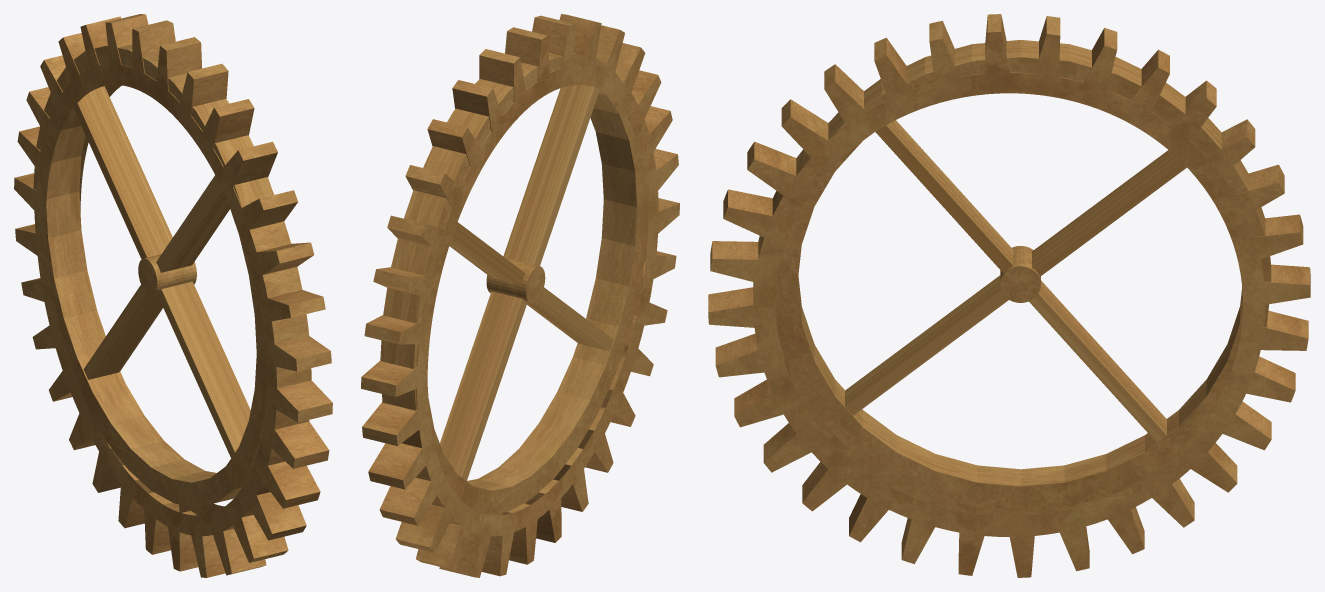
File: MercureRoueSecondaire.fbx
The picture shows the model from 3 angles, left to right: view 1: azimuth 30°, elevation 25°; view 2: azimuth 150°, elevation 25°; view 3: azimuth 270°, elevation 25°; orthographic projection. The views are drawn at different scales.
Parts seen in each view (by area): view 1: GearPetite, ContourRoueSeondaire, CentreRoueSecondaire; view 2: GearPetite, ContourRoueSeondaire, CentreRoueSecondaire; view 3: GearPetite, ContourRoueSeondaire, CentreRoueSecondaire.
Boxes of the visible parts, x1,y1,x2,y2 form: GearPetite: [14, 14, 332, 577]; ContourRoueSeondaire: [33, 44, 273, 507]; CentreRoueSecondaire: [138, 254, 196, 295]; GearPetite: [361, 14, 679, 577]; ContourRoueSeondaire: [380, 53, 647, 514]; CentreRoueSecondaire: [486, 258, 545, 303]; GearPetite: [708, 14, 1310, 577]; ContourRoueSeondaire: [776, 40, 1271, 510]; CentreRoueSecondaire: [1000, 246, 1040, 302].
Size of the model in its own units: 5.71 by 70.99 by 70.99.
Materials: 3 (3 with a texture image).
